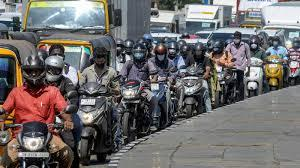helmet: (21, 55, 47, 90), (44, 55, 65, 82), (132, 42, 148, 63), (93, 46, 108, 65), (154, 44, 167, 62), (193, 42, 205, 60), (212, 39, 224, 55), (123, 39, 135, 55), (249, 35, 260, 50), (180, 44, 191, 58), (292, 37, 300, 49)
nohelmet: (49, 42, 65, 67), (233, 31, 242, 46)
